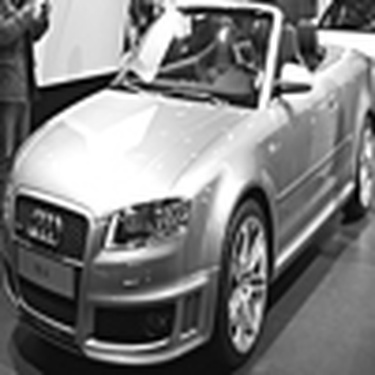car: (1, 4, 371, 363)
